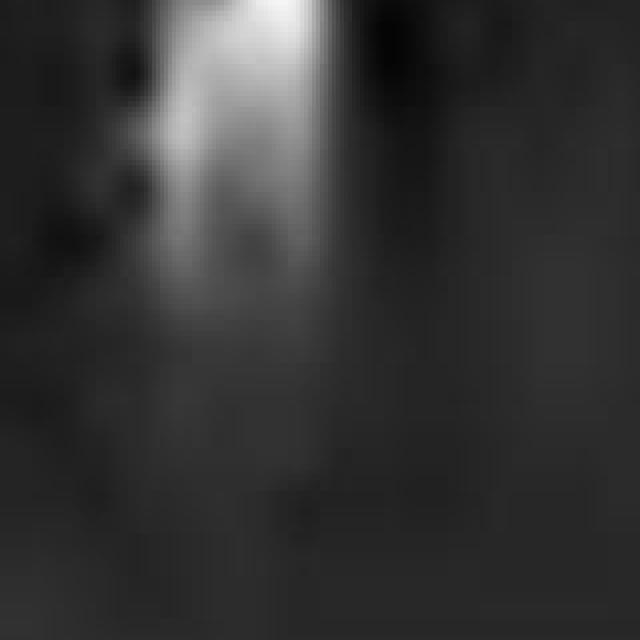person: (129, 1, 353, 374)
